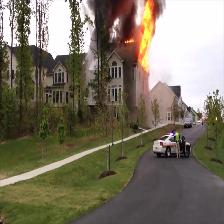fire: (140, 5, 153, 59)
smoke: (92, 0, 133, 39)
